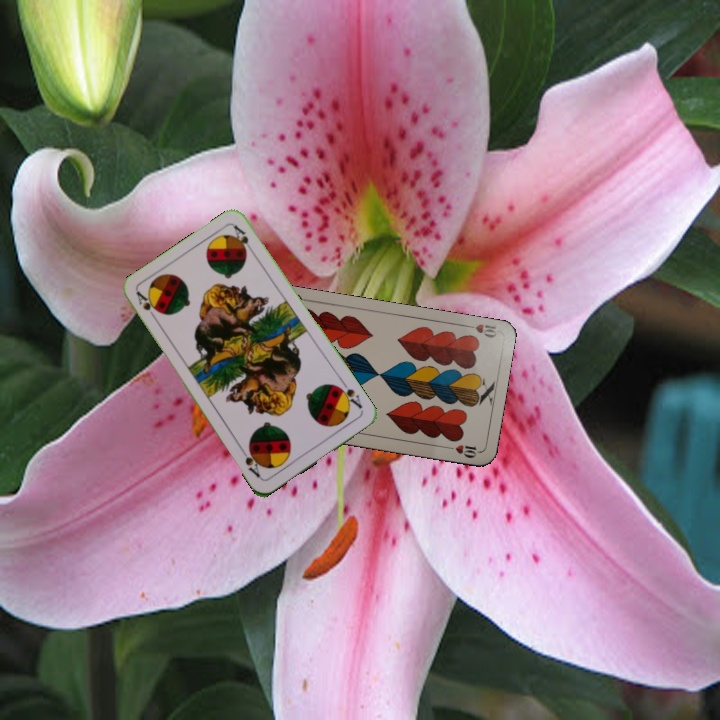H10: (460, 320, 500, 341)
SA: (332, 377, 365, 411), (132, 287, 160, 324)
